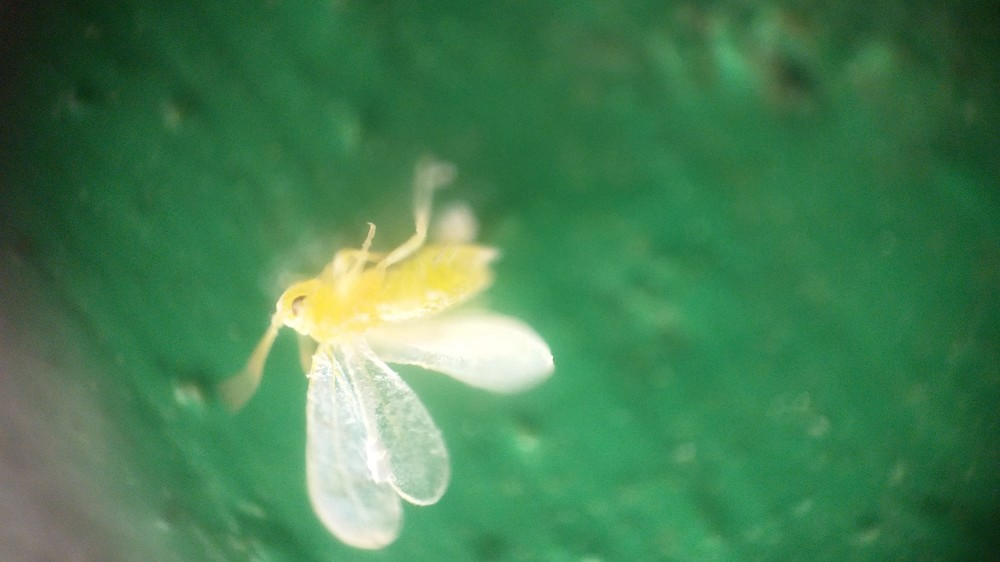Mosca Blanca: (222, 155, 581, 555)
